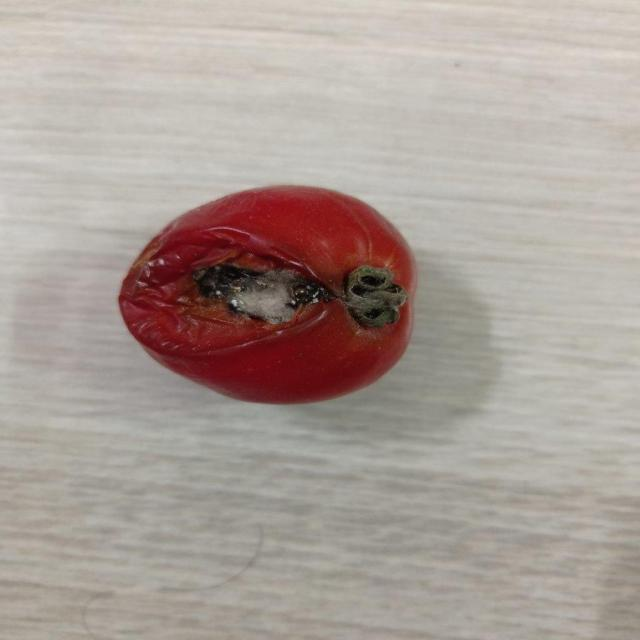Rotten: (122, 185, 416, 402)
